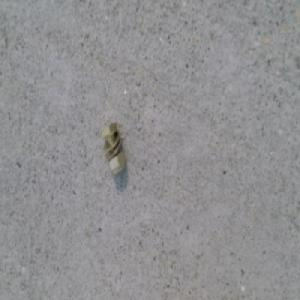BoltNutSet: (100, 121, 125, 175)
